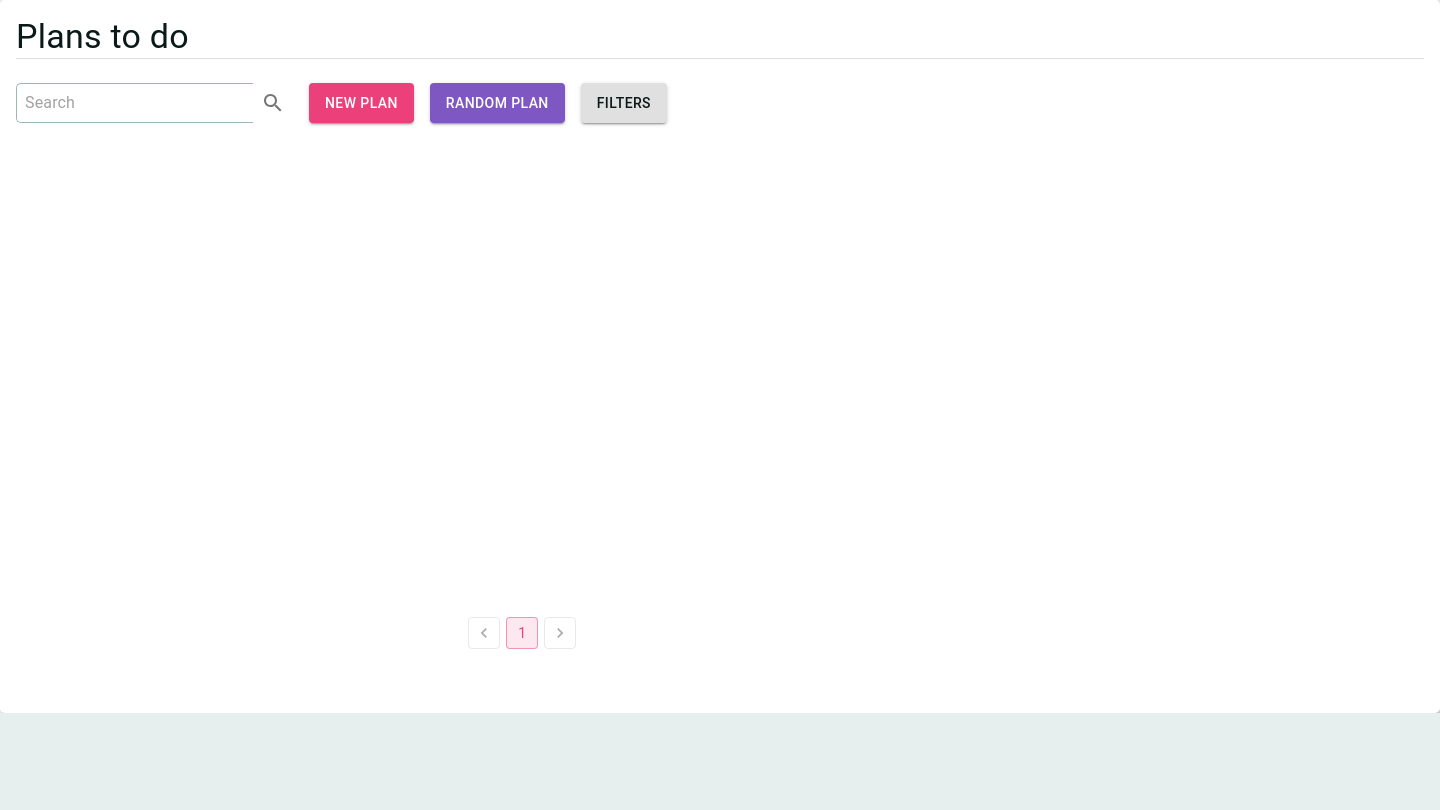
Test: when clicking the new button form for creating a plan is opened
Check: the text "Create Plan" is not shown
Click the button "New Plan".
click(361, 103)  # box x1=309 y1=83 x2=414 y2=123
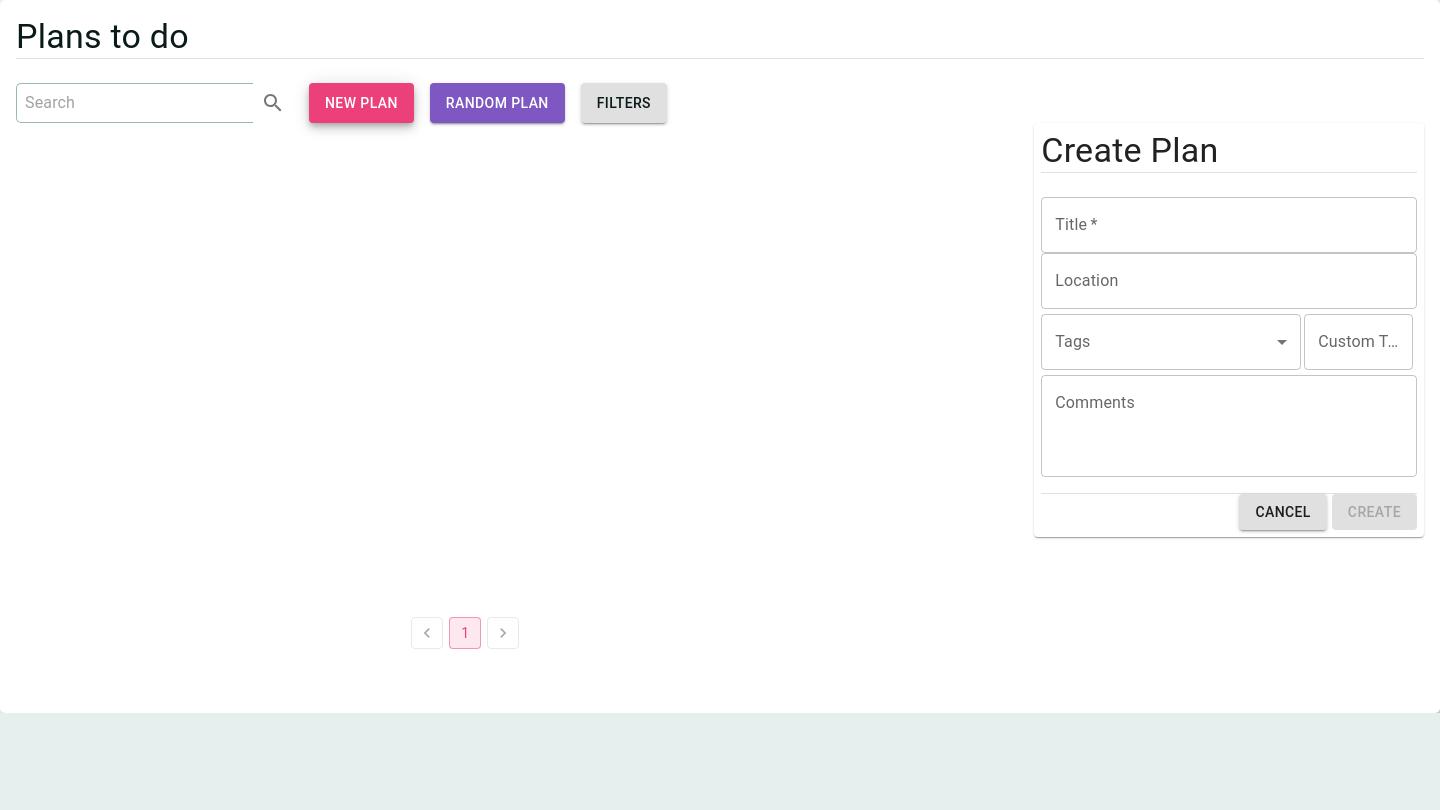
Check: the heading "Create Plan" is shown, box x1=1041 y1=130 x2=1218 y2=170
